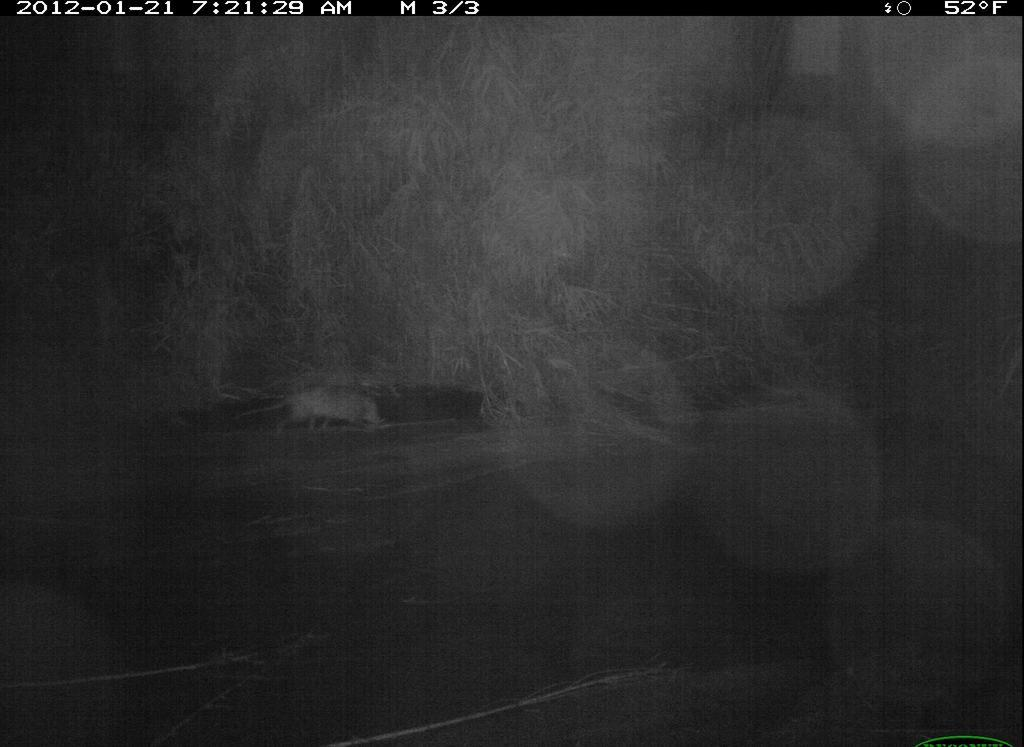opossum: (231, 370, 397, 442)
